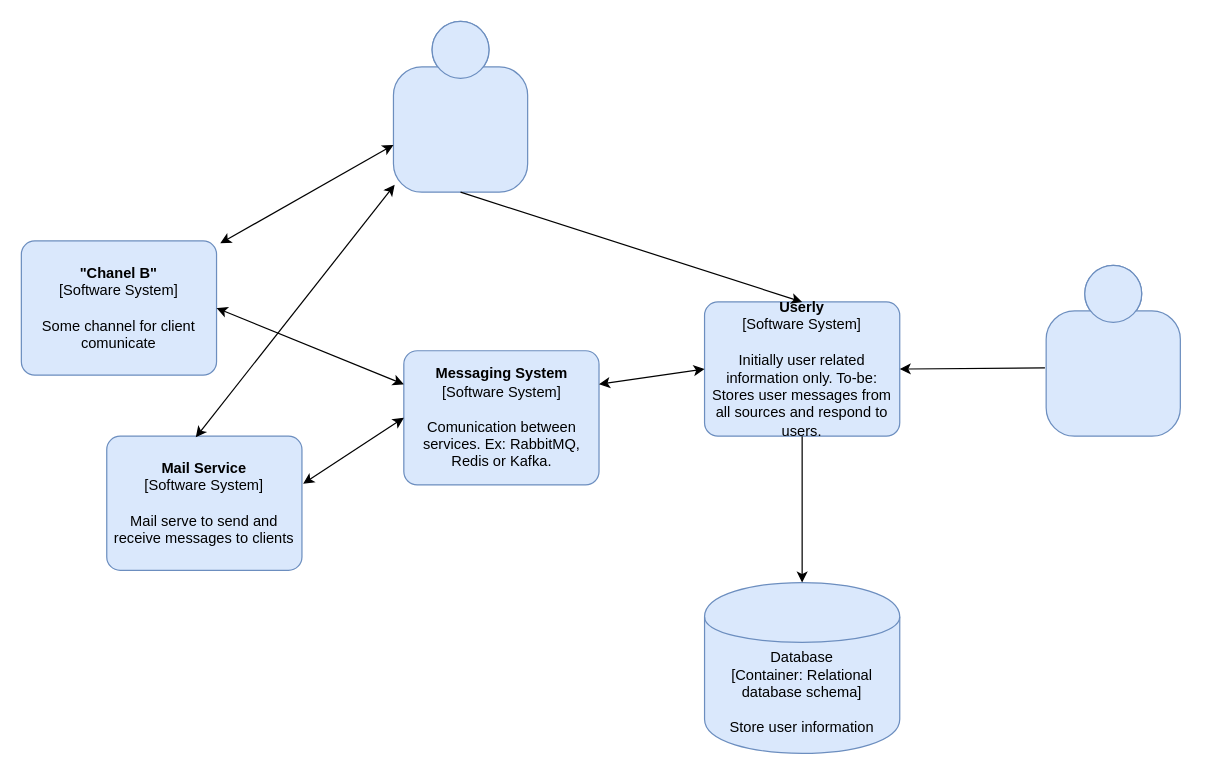
Some shapes in this 1210 by 775 pixel diagram are drawn without their labels. The box of each missing label's shape, as (x1, y1, x2, y2) in pixels:
Client [Person] Store client: (392, 20, 528, 192)
Suport [Person] Respond to users ticket: (1045, 264, 1180, 436)
